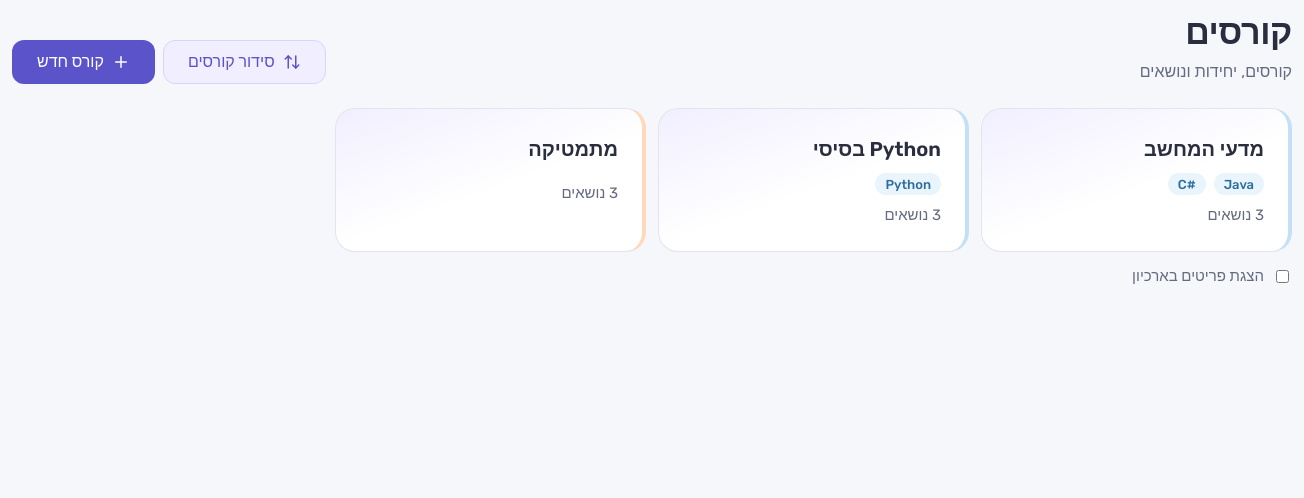
Test: CoursesPage — manual ordering mode › cancel saves nothing; archived courses are not part of the arrangement
Expected: the link "מדעי המחשב Java  C# 3 נושאים" is shown, [981, 108, 1292, 252]
Click the button "סידור קורסים": click(244, 62) [163, 40, 326, 84]
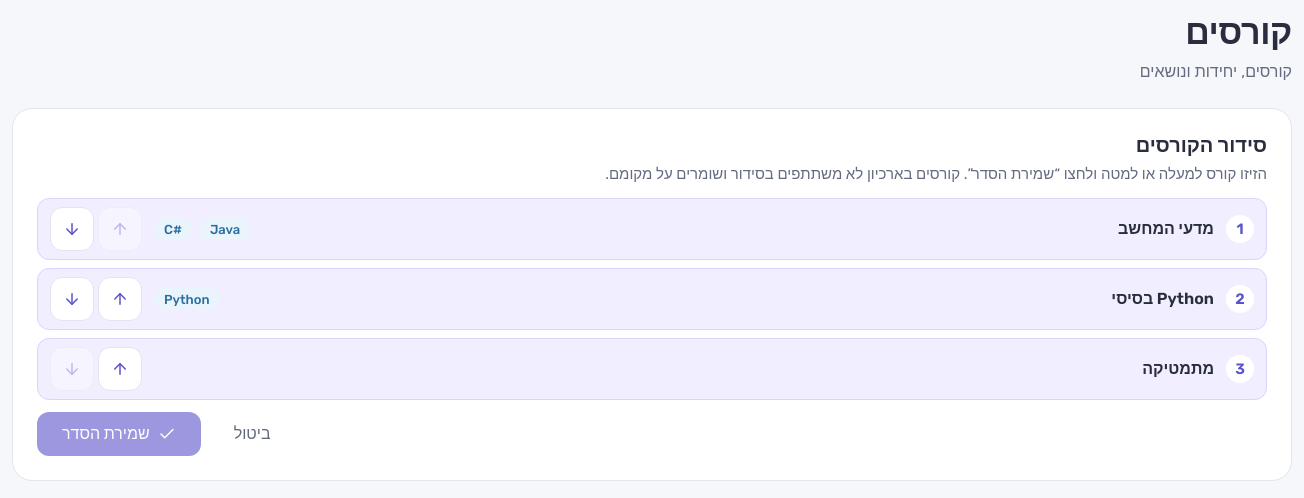
Click the button "ביטול": click(252, 434) [209, 412, 296, 456]
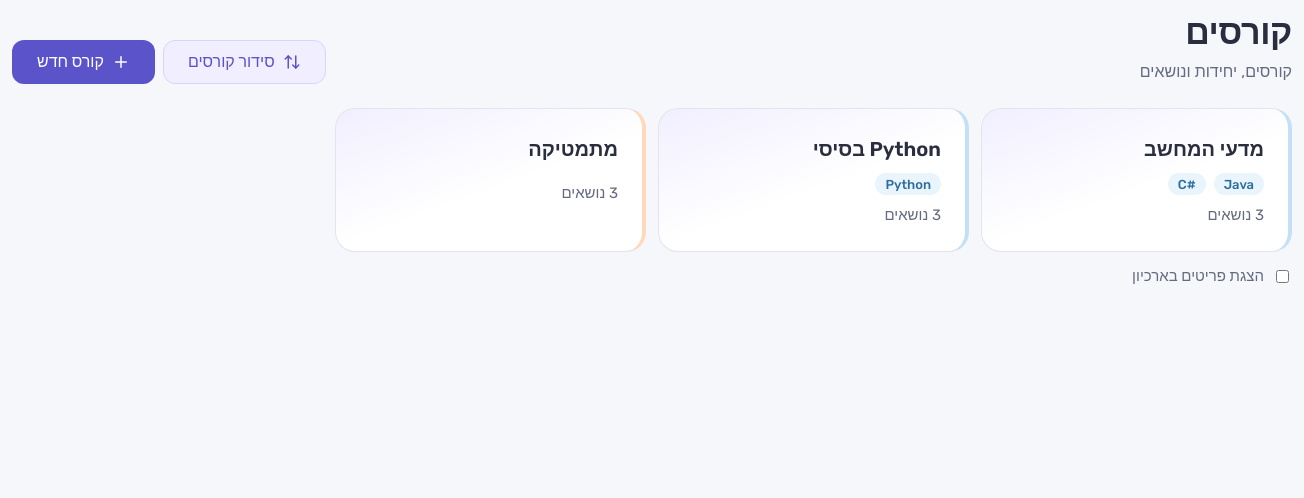
Now the link "מדעי המחשב Java  C# 3 נושאים" is shown, box [981, 108, 1292, 252]
